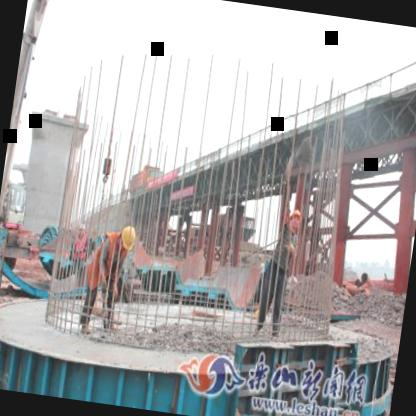helmet: (114, 219, 139, 256), (284, 202, 305, 233)
